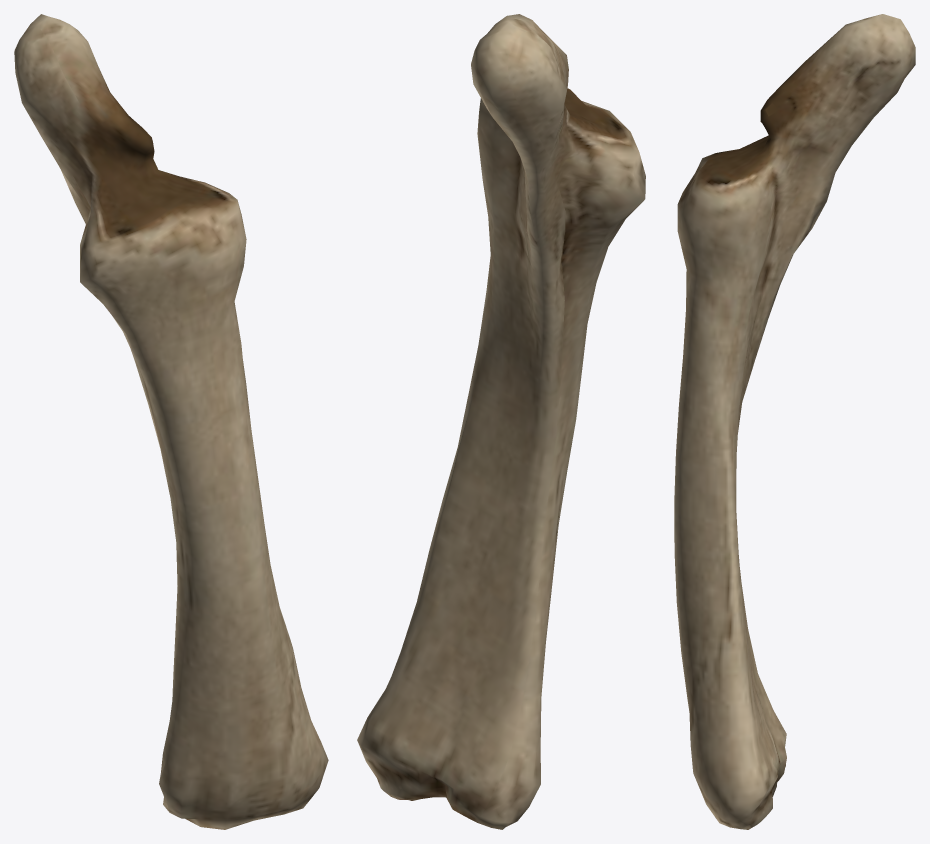
File: Radius.glb
3 renders of one model, left to right at view 1: azimuth 30°, elevation 25°; view 2: azimuth 150°, elevation 25°; view 3: azimuth 270°, elevation 25°, orthographic. The views are drawn at different scales.
Parts seen in each view (by area): view 1: R_Frt_Radius; view 2: R_Frt_Radius; view 3: R_Frt_Radius.
Part boxes in pixels (x1,y1,x2,y2): R_Frt_Radius: (14, 14, 328, 829); R_Frt_Radius: (357, 14, 645, 829); R_Frt_Radius: (674, 14, 915, 829).
Size of the model in its own units: 0.1426 by 0.4278 by 0.127.
Materials: 1 (1 with a texture image).
